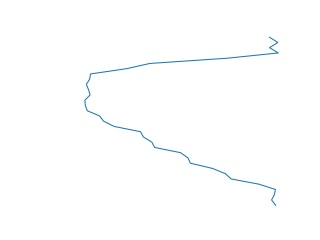mouthBar: (81, 37, 283, 206)
